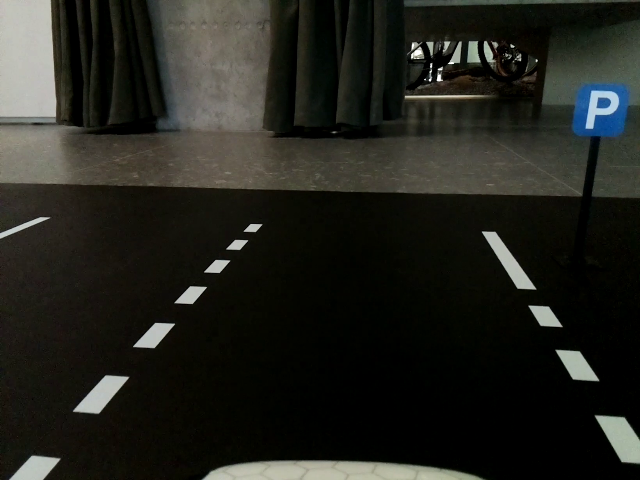park: (576, 83, 625, 137)
